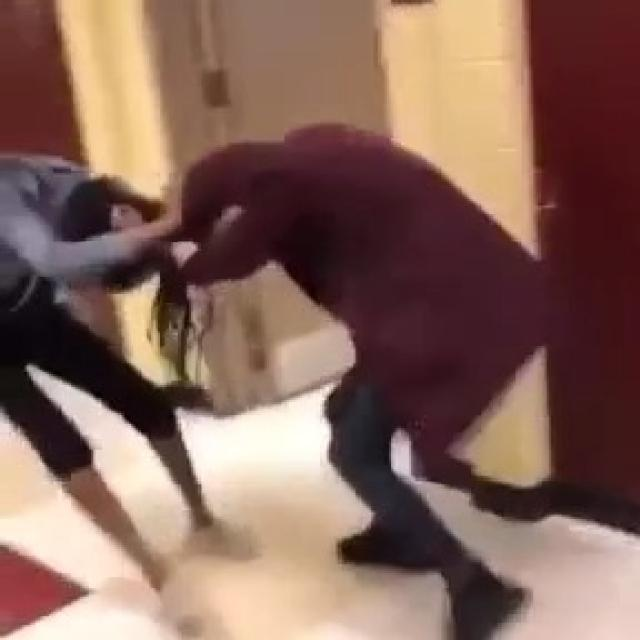fight: (0, 85, 593, 639)
